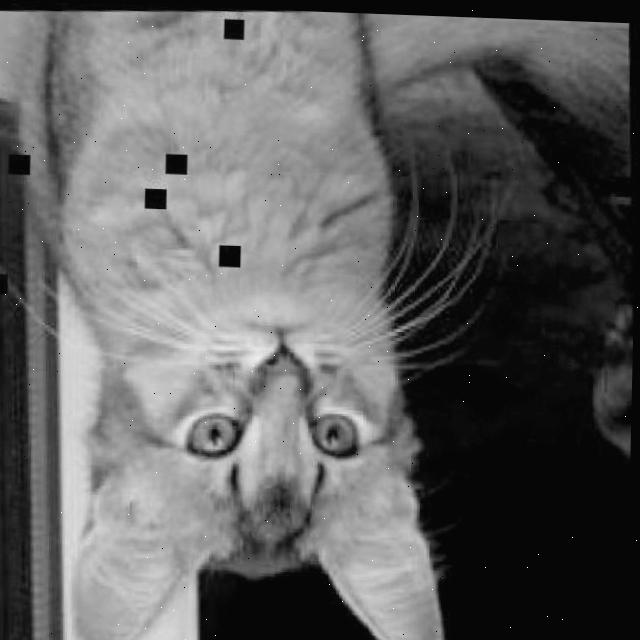Cat: (9, 1, 464, 640)
